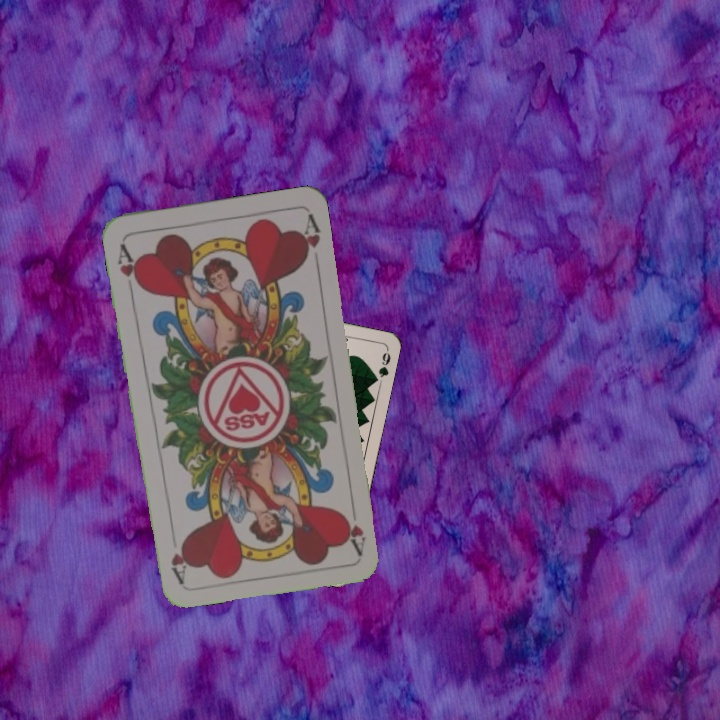HA: (113, 239, 143, 297), (337, 509, 369, 556)
